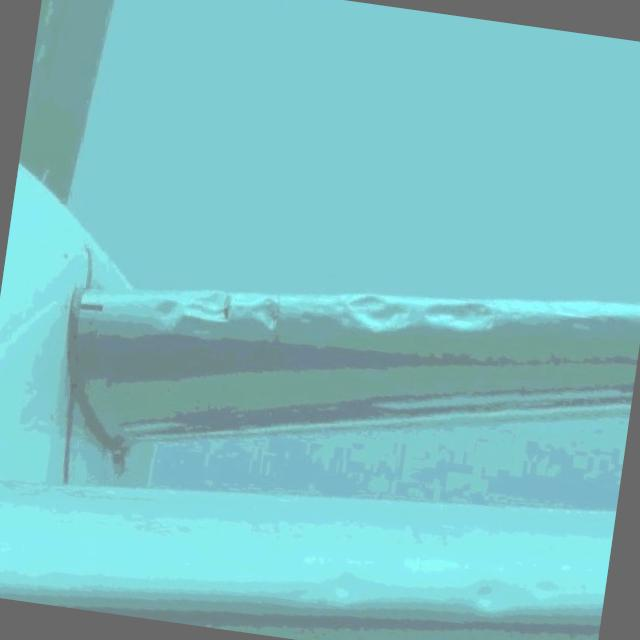dent: (343, 288, 414, 342), (420, 297, 494, 340), (183, 288, 236, 330), (466, 574, 504, 618), (248, 294, 286, 332), (326, 569, 363, 606), (150, 290, 185, 326)
